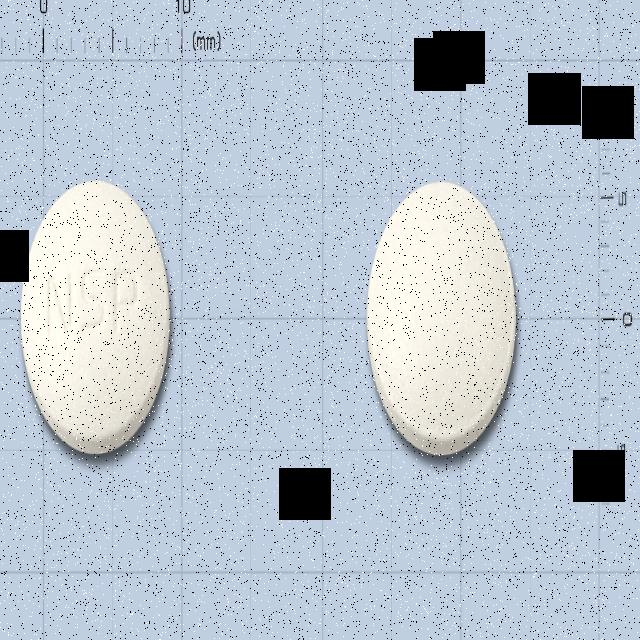Ciproctan - 500mg: (17, 175, 184, 468)
